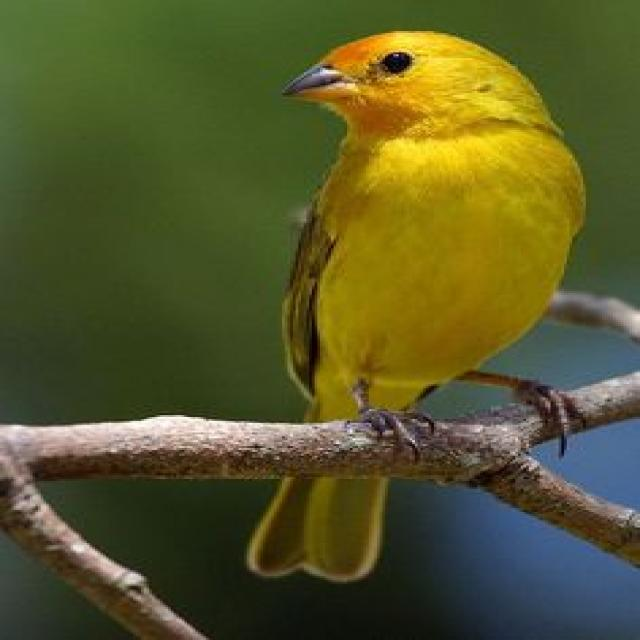Herbivorous: (279, 31, 591, 425), (247, 477, 393, 586)
